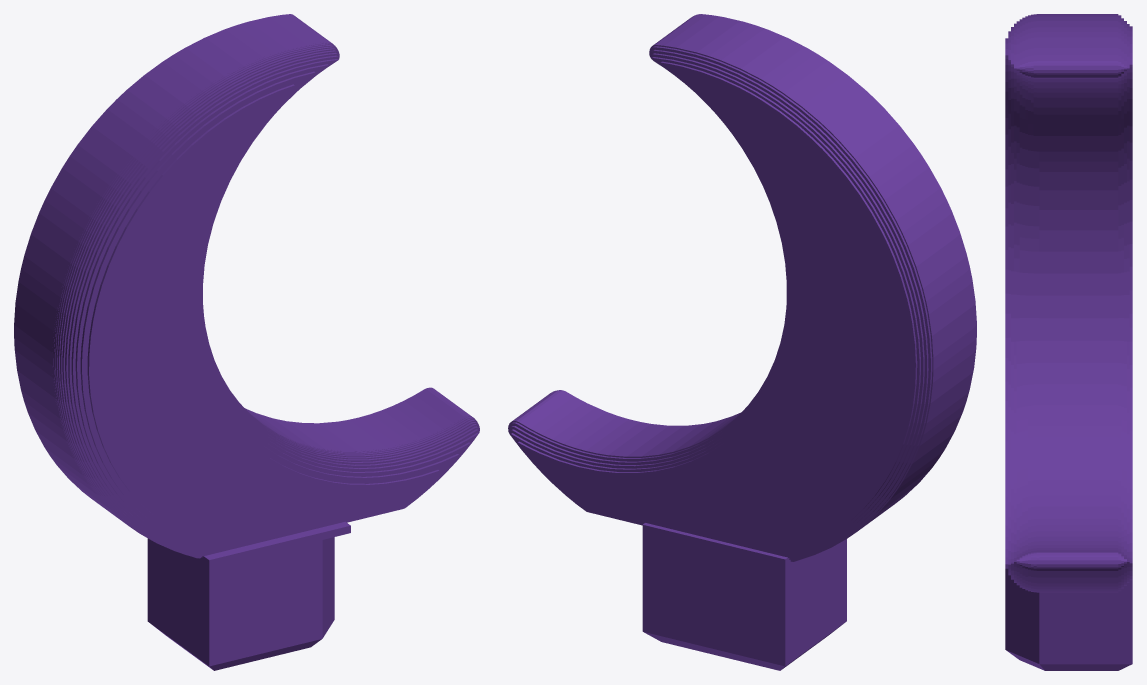
The model's file is glyph-shadow@shadow.glb.
3 views of the same model, side by side, from view 1: azimuth 30°, elevation 25°; view 2: azimuth 150°, elevation 25°; view 3: azimuth 270°, elevation 25° (orthographic). The views are drawn at different scales.
Parts seen in each view (by area): view 1: geometry_0; view 2: geometry_0; view 3: geometry_0.
Boxes of the visible parts, bbox=[...] form: geometry_0: bbox=[14, 14, 479, 670]; geometry_0: bbox=[508, 14, 976, 670]; geometry_0: bbox=[1005, 14, 1132, 670].
Size of the model in its own units: 17.89 by 24.05 by 4.5.
